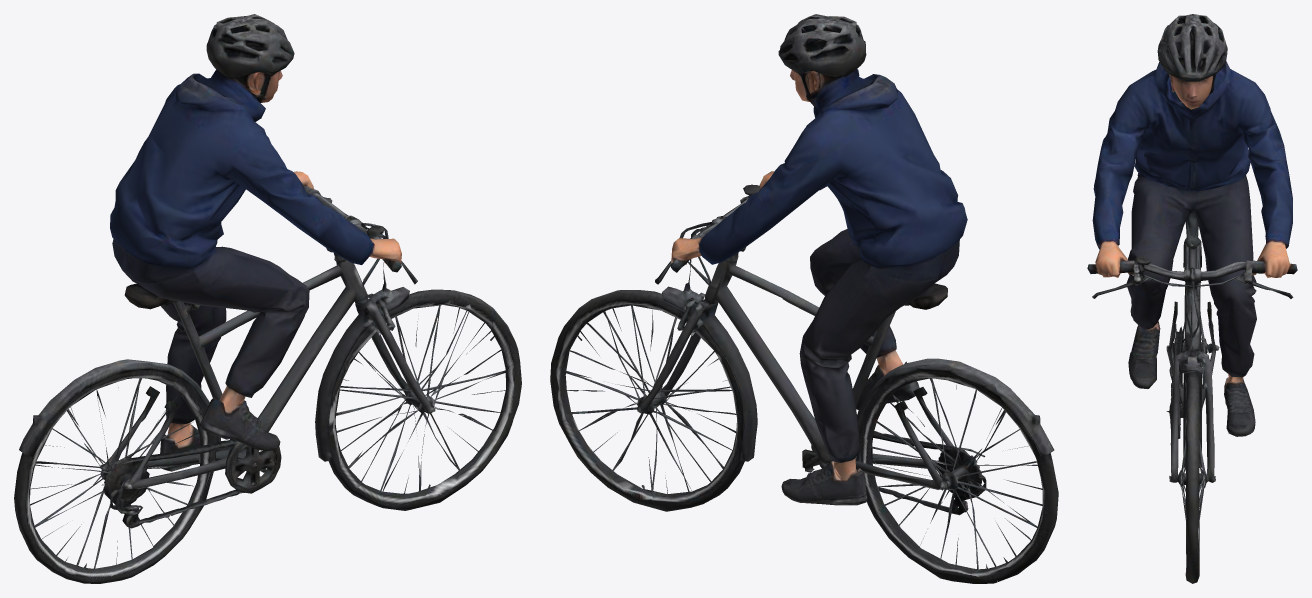
File: bike.glb
3 views of the same model, side by side, from view 1: azimuth 30°, elevation 25°; view 2: azimuth 150°, elevation 25°; view 3: azimuth 270°, elevation 25° (orthographic). The views are drawn at different scales.
Parts seen in each view (by area): view 1: tripo_node_9dcf81f2-608e-44c9-9709-9337d5957cc6; view 2: tripo_node_9dcf81f2-608e-44c9-9709-9337d5957cc6; view 3: tripo_node_9dcf81f2-608e-44c9-9709-9337d5957cc6.
Boxes of the visible parts, bbox=[...] form: tripo_node_9dcf81f2-608e-44c9-9709-9337d5957cc6: bbox=[14, 14, 521, 583]; tripo_node_9dcf81f2-608e-44c9-9709-9337d5957cc6: bbox=[550, 14, 1058, 583]; tripo_node_9dcf81f2-608e-44c9-9709-9337d5957cc6: bbox=[1087, 14, 1297, 583].
Size of the model in its own units: 0.9746 by 0.9776 by 0.3911.
1 material, 1 textured.
